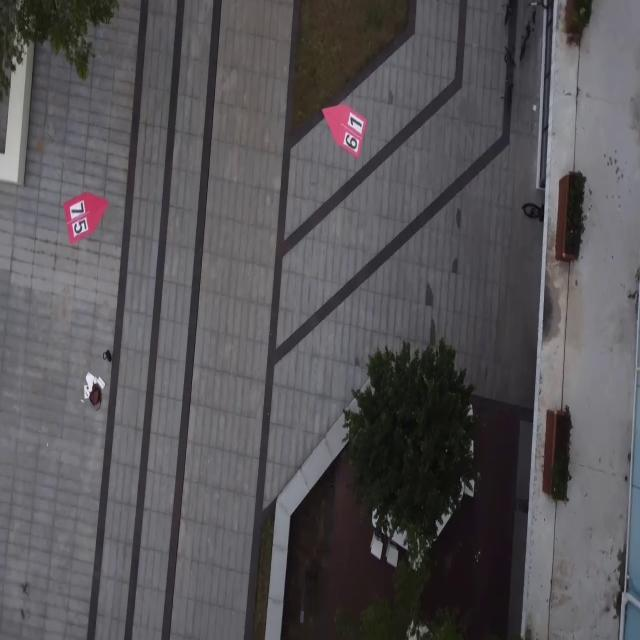-sign-: (321, 102, 367, 159), (63, 190, 109, 246)
